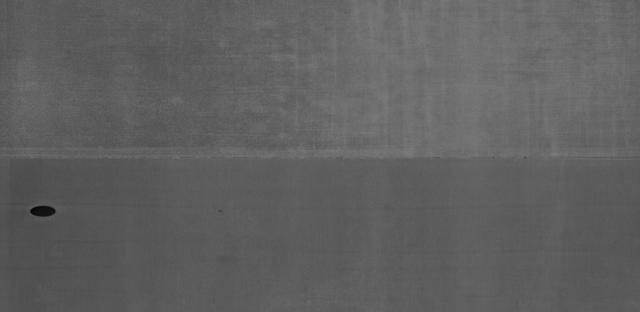punching_hole: (25, 202, 59, 220)
welding_line: (2, 146, 638, 168)
